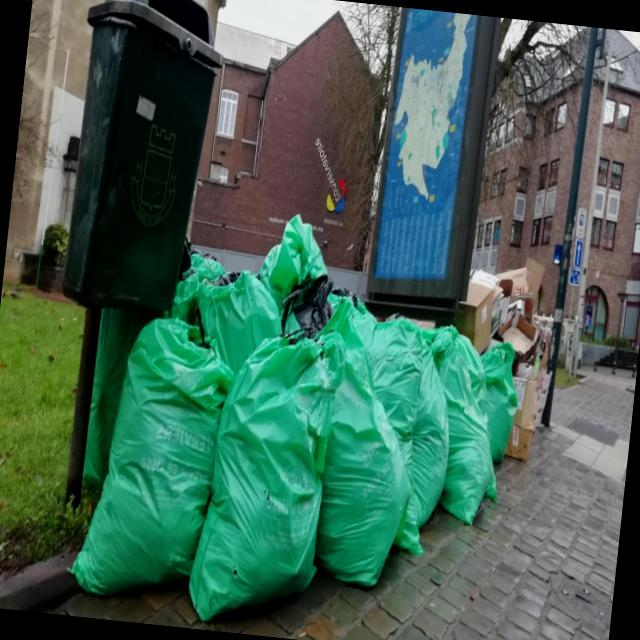garbage: (30, 188, 560, 640)
